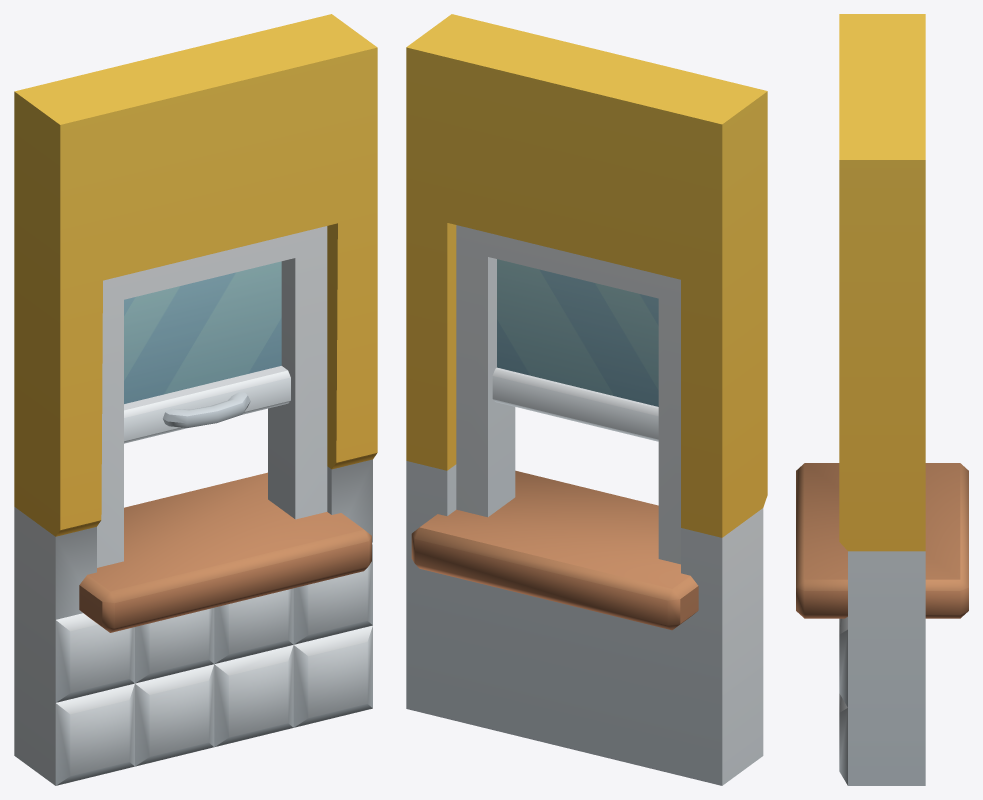
File: Wall Tiled Window.glb
The picture shows the model from 3 angles, left to right: view 1: azimuth 30°, elevation 25°; view 2: azimuth 150°, elevation 25°; view 3: azimuth 270°, elevation 25°; orthographic projection. The views are drawn at different scales.
Parts seen in each view (by area): view 1: wall_tiled_window; view 2: wall_tiled_window; view 3: wall_tiled_window.
Part boxes in pixels (x1=…): wall_tiled_window: x1=14, y1=14, x2=377, y2=785; wall_tiled_window: x1=406, y1=14, x2=767, y2=785; wall_tiled_window: x1=796, y1=14, x2=968, y2=785.
Bounding box in the file's own units: 2 × 4 × 1.
2 materials, 2 textured.
